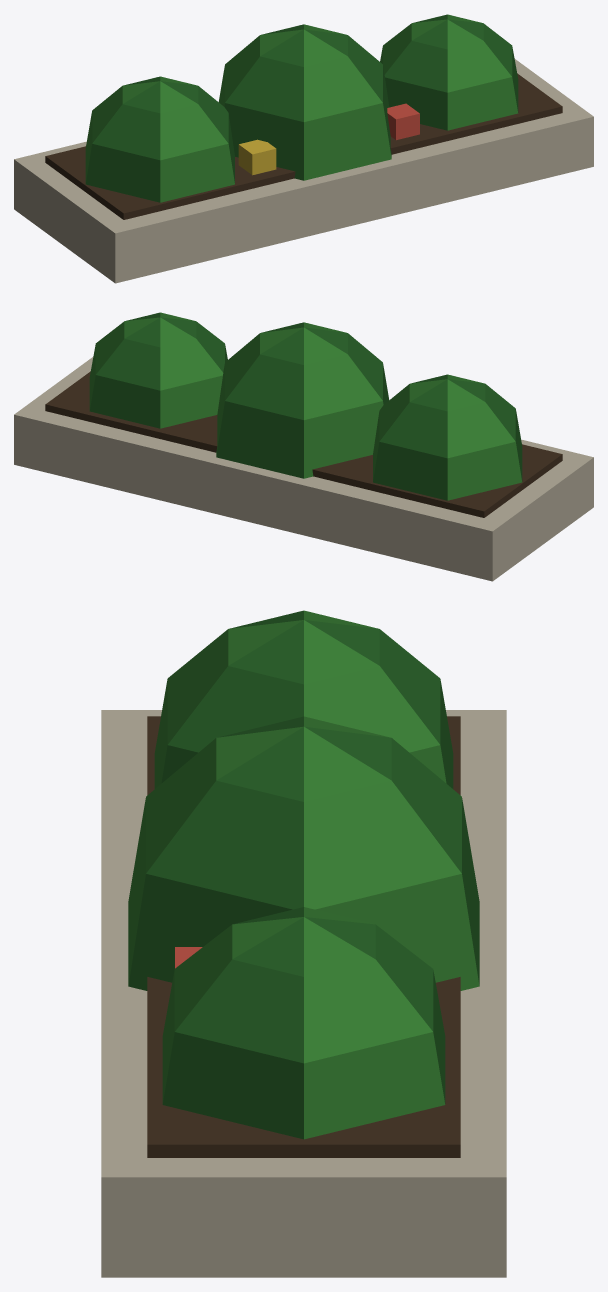
File: pot.glb
3 renders of one model, top to bottom at view 1: azimuth 30°, elevation 25°; view 2: azimuth 150°, elevation 25°; view 3: azimuth 270°, elevation 25°, orthographic. The views are drawn at different scales.
Visible parts, largest first — view 1: potongan_pot; view 2: potongan_pot; view 3: potongan_pot.
Boxes of the visible parts, x1,y1,x2,y2 form: potongan_pot: (14, 14, 593, 283); potongan_pot: (14, 312, 593, 581); potongan_pot: (101, 610, 506, 1277).
Size of the model in its own units: 6 by 1.9 by 2.2.
